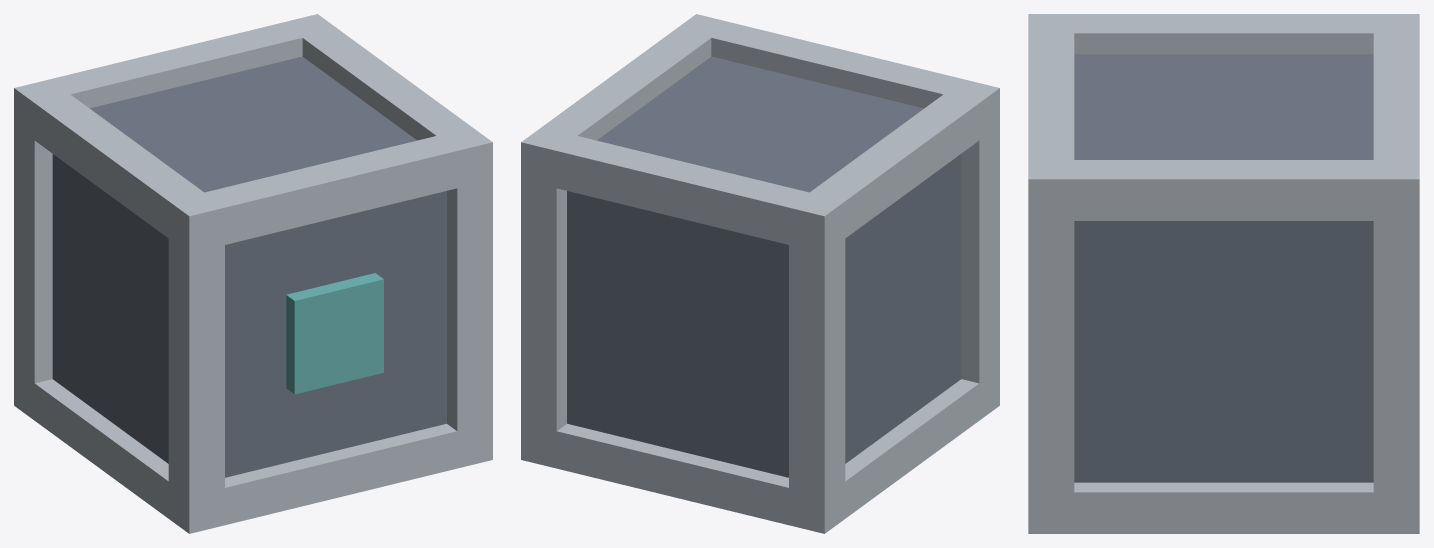
File: default_fallback_crate.glb
3 renders of one model, left to right at view 1: azimuth 30°, elevation 25°; view 2: azimuth 150°, elevation 25°; view 3: azimuth 270°, elevation 25°, orthographic. The views are drawn at different scales.
Bounding box in the file's own units: 1.02 × 1.02 × 1.02.
